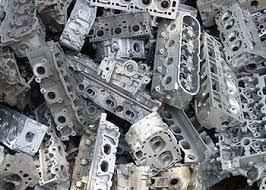metal: (192, 28, 252, 135), (147, 7, 209, 109), (23, 44, 83, 136), (212, 1, 266, 77), (120, 108, 182, 170), (81, 106, 123, 190), (56, 1, 99, 51)
